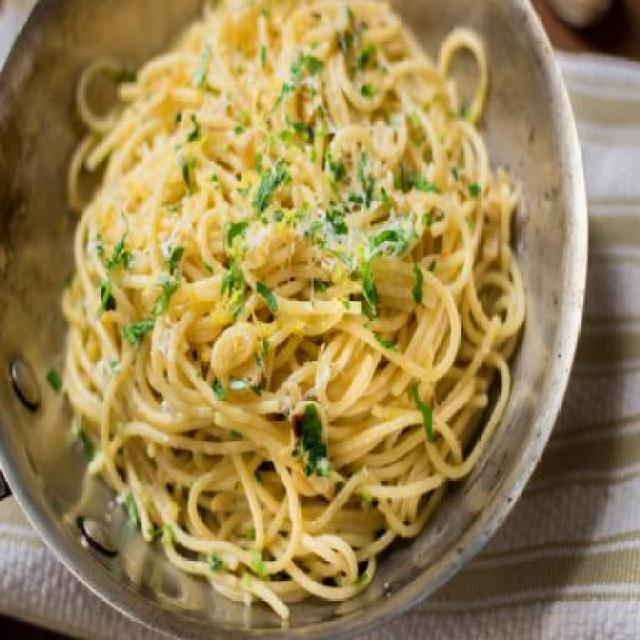Oil pasta: (30, 12, 536, 632)
